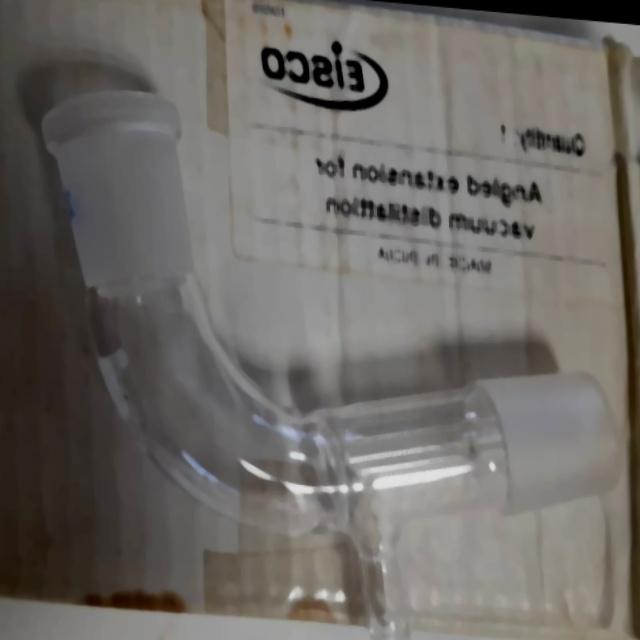Angled Extension for Vacuum Distillation: (36, 77, 640, 640)
